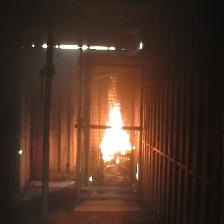fire: (99, 102, 136, 161)
